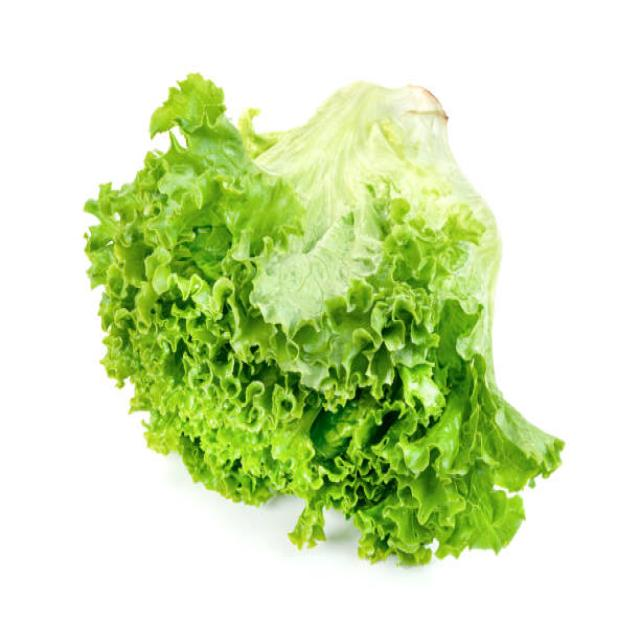Wet Waste: (80, 70, 562, 569)
